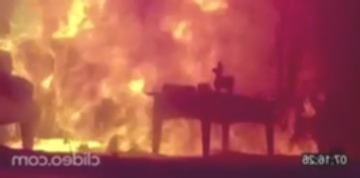fire: (0, 0, 302, 150)
